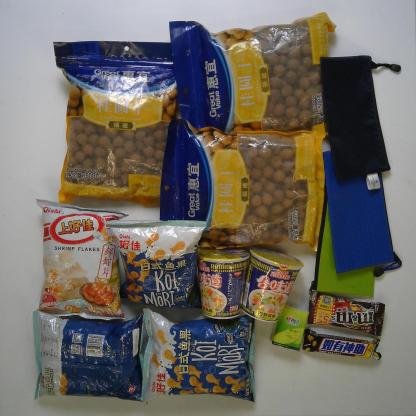Chocolate: (306, 286, 386, 337), (303, 328, 382, 362)
Dried Food: (52, 41, 195, 210), (168, 11, 338, 151), (158, 118, 328, 254)
Instant Noodles: (242, 246, 304, 324), (196, 244, 250, 320)
Puffed Food: (34, 197, 128, 320), (142, 308, 257, 404), (32, 309, 148, 403), (105, 219, 208, 309)
Stationery: (322, 145, 401, 274), (312, 166, 384, 298), (320, 54, 391, 182)
Tissue: (270, 303, 310, 353)
